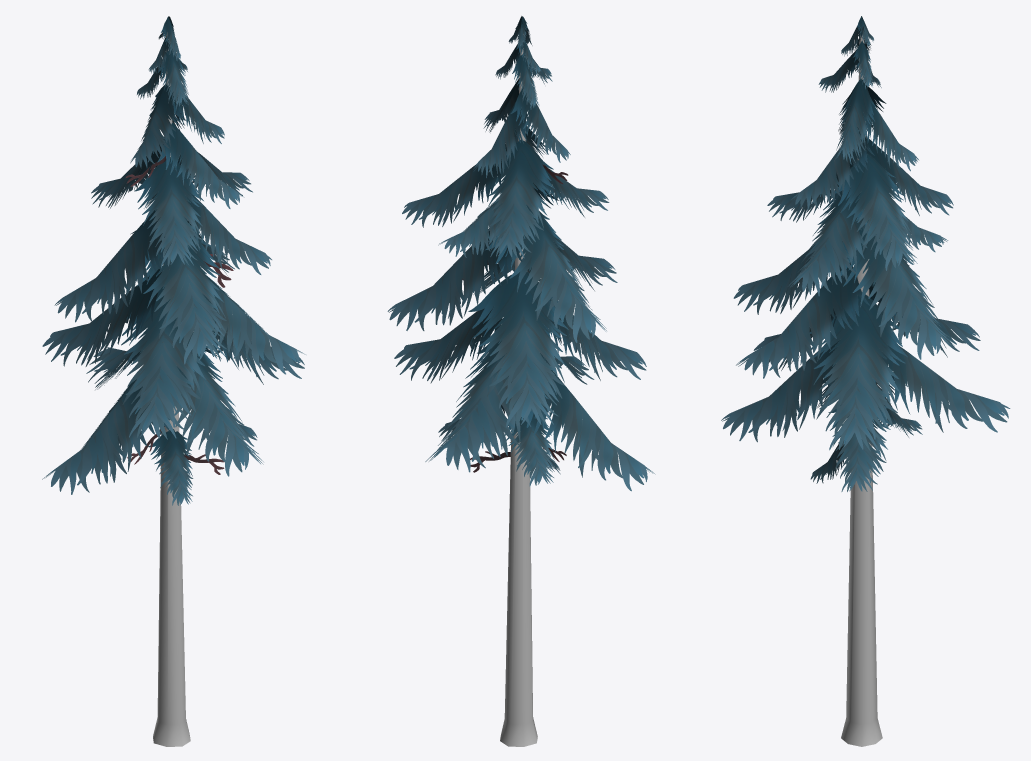
File: Arbol_4_Export.fbx
3 views of the same model, side by side, from view 1: azimuth 30°, elevation 25°; view 2: azimuth 150°, elevation 25°; view 3: azimuth 270°, elevation 25° (orthographic).
Visible parts, largest first — view 1: Arbol_4; view 2: Arbol_4; view 3: Arbol_4.
Part boxes in pixels (box(x1,y1,x2,y2)): Arbol_4: box(42, 16, 305, 746); Arbol_4: box(387, 16, 655, 746); Arbol_4: box(721, 16, 1010, 746).
Bounding box in the file's own units: 439 × 1146 × 445.
